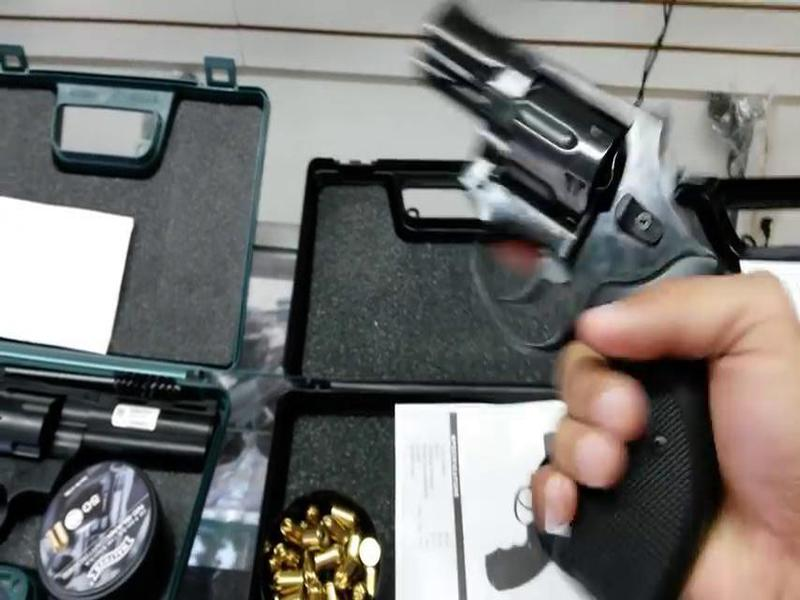Revolver: (368, 1, 736, 592)
